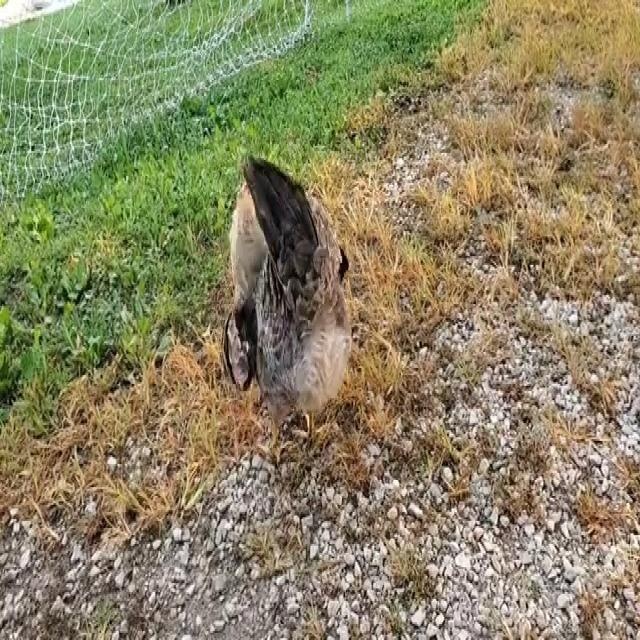self preening: (218, 144, 355, 459)
